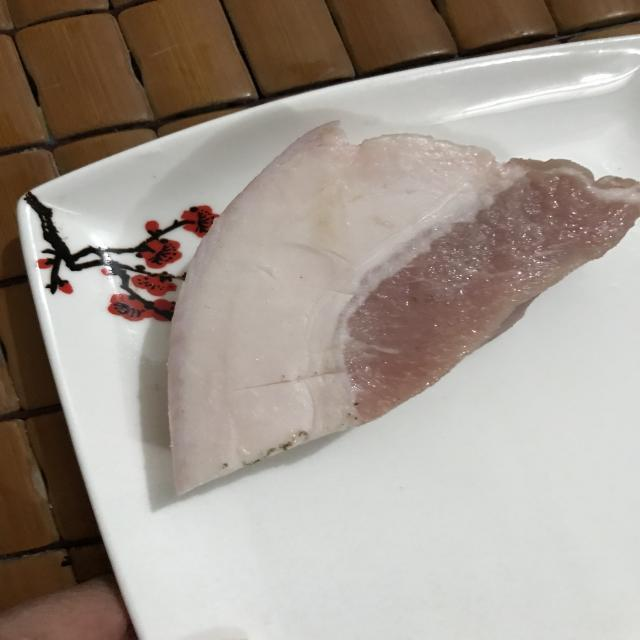chicken: (138, 113, 640, 509)
